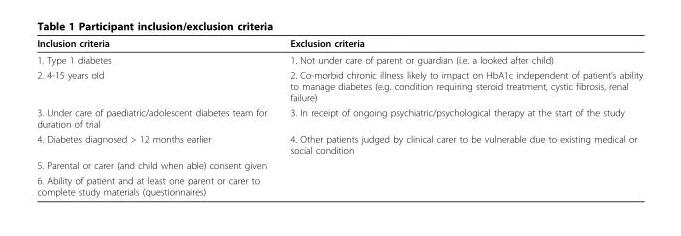table: (36, 37, 642, 196)
table column: (277, 37, 642, 196), (36, 37, 277, 196)
table column header: (36, 37, 642, 51)
table projected row header: (36, 157, 642, 172)
table row: (36, 67, 642, 104), (36, 104, 642, 131), (36, 131, 642, 157), (36, 172, 642, 196), (36, 51, 642, 67), (36, 157, 642, 172), (36, 37, 642, 51)
